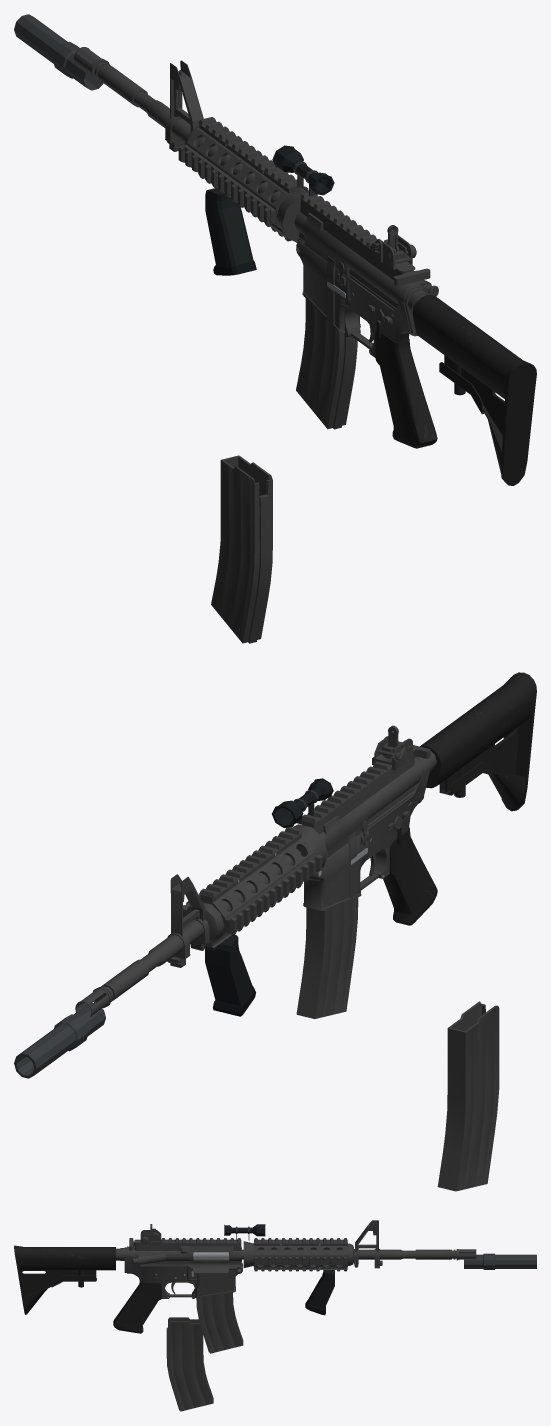
File: steel_tide_m4a1.glb
3 renders of one model, top to bottom at view 1: azimuth 30°, elevation 25°; view 2: azimuth 150°, elevation 25°; view 3: azimuth 270°, elevation 25°, orthographic. The views are drawn at different scales.
Visible parts, largest first — view 1: M4A1Body_01_Base, StockGeometry, M4A1Body_00_Barrel, SpareMagazineGeometry, MagazineGeometry, ForegripGeometry, SuppressorGeometry, FrontIronSightGeometry, OpticMountGeometry, RearIronSightGeometry_Sight; view 2: M4A1Body_01_Base, M4A1Body_00_Barrel, StockGeometry, SpareMagazineGeometry, MagazineGeometry, ForegripGeometry, SuppressorGeometry, OpticMountGeometry, FrontIronSightGeometry, RearIronSightGeometry_Sight; view 3: M4A1Body_01_Base, M4A1Body_00_Barrel, StockGeometry, SpareMagazineGeometry, MagazineGeometry, SuppressorGeometry, ForegripGeometry, M4A1Body_03_Ejector_Lid, OpticMountGeometry, FrontIronSightGeometry, RearIronSightGeometry_Sight, M4A1Body_02_Ejector_2.
Part boxes in pixels (left/top/right/bottom): M4A1Body_01_Base: left=294, top=192, right=438, bottom=448; StockGeometry: left=407, top=290, right=536, bottom=485; M4A1Body_00_Barrel: left=90, top=58, right=308, bottom=242; SpareMagazineGeometry: left=211, top=455, right=272, bottom=643; MagazineGeometry: left=296, top=298, right=357, bottom=429; ForegripGeometry: left=205, top=188, right=256, bottom=275; SuppressorGeometry: left=14, top=14, right=103, bottom=90; FrontIronSightGeometry: left=170, top=60, right=203, bottom=131; OpticMountGeometry: left=272, top=145, right=334, bottom=195; RearIronSightGeometry_Sight: left=371, top=235, right=412, bottom=269; M4A1Body_01_Base: left=301, top=748, right=437, bottom=925; M4A1Body_00_Barrel: left=93, top=824, right=327, bottom=1008; StockGeometry: left=420, top=672, right=536, bottom=811; SpareMagazineGeometry: left=437, top=1001, right=499, bottom=1191; MagazineGeometry: left=296, top=897, right=358, bottom=1018; ForegripGeometry: left=205, top=935, right=255, bottom=1016; SuppressorGeometry: left=14, top=1002, right=105, bottom=1078; OpticMountGeometry: left=272, top=778, right=333, bottom=827; FrontIronSightGeometry: left=170, top=874, right=204, bottom=936; RearIronSightGeometry_Sight: left=372, top=736, right=412, bottom=770; M4A1Body_01_Base: left=113, top=1238, right=242, bottom=1333; M4A1Body_00_Barrel: left=242, top=1238, right=458, bottom=1271; StockGeometry: left=14, top=1245, right=124, bottom=1314; SpareMagazineGeometry: left=166, top=1317, right=213, bottom=1411; MagazineGeometry: left=196, top=1292, right=243, bottom=1353; SuppressorGeometry: left=464, top=1253, right=536, bottom=1269; ForegripGeometry: left=305, top=1270, right=334, bottom=1315; M4A1Body_03_Ejector_Lid: left=188, top=1261, right=233, bottom=1272; OpticMountGeometry: left=224, top=1224, right=265, bottom=1240; FrontIronSightGeometry: left=355, top=1220, right=378, bottom=1252; RearIronSightGeometry_Sight: left=140, top=1228, right=161, bottom=1245; M4A1Body_02_Ejector_2: left=193, top=1252, right=228, bottom=1258.
Bounding box in the file's own units: 0.4015 × 1.05 × 2.29.
6 materials, 1 textured.
